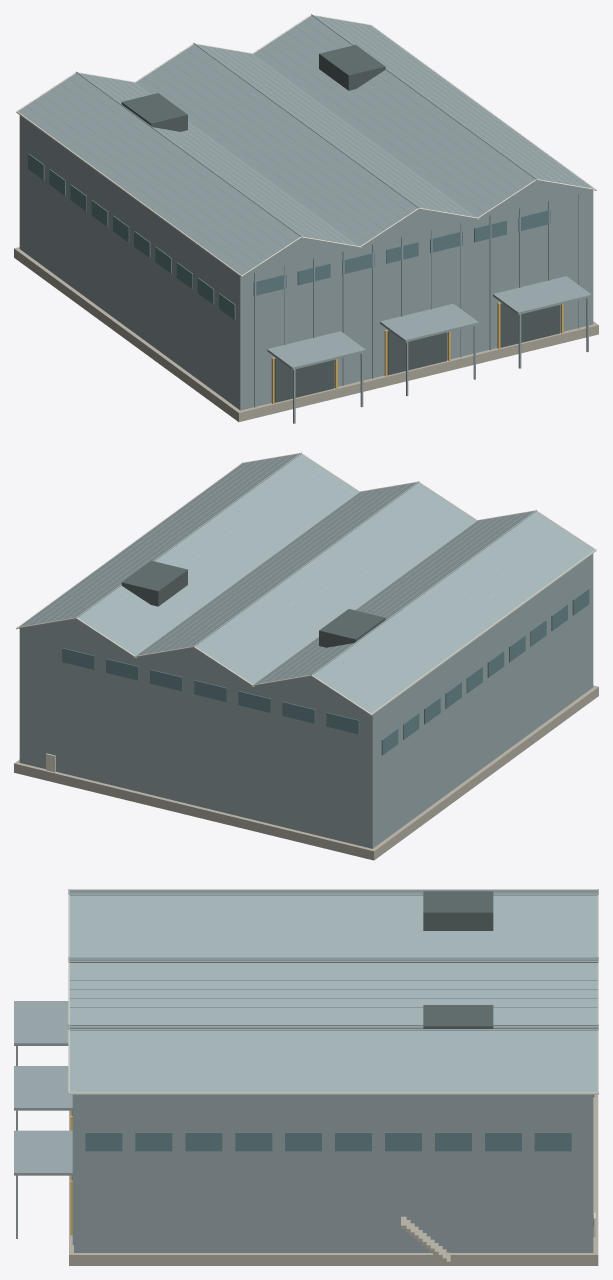
3 renders of one model, top to bottom at view 1: azimuth 30°, elevation 25°; view 2: azimuth 150°, elevation 25°; view 3: azimuth 270°, elevation 25°, orthographic. The views are drawn at different scales.
Bounding box in the file's own units: 50.65 × 22.5 × 58.58.
